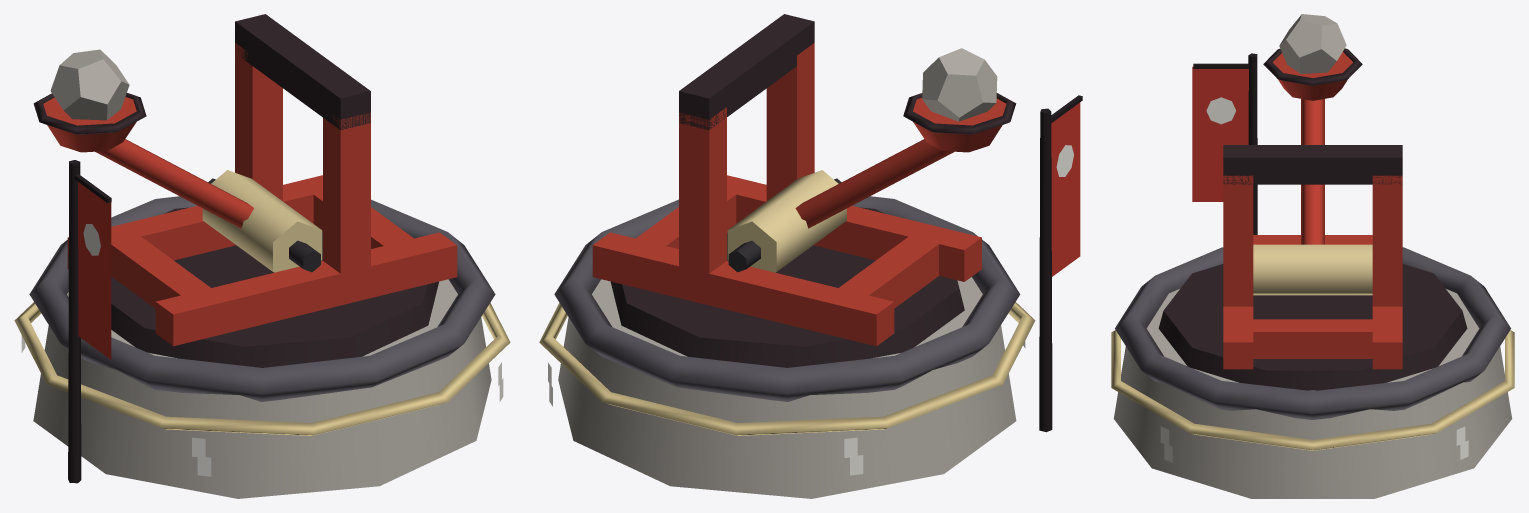
Rendered from tower_catapult.glb.
3 renders of one model, left to right at view 1: azimuth 30°, elevation 25°; view 2: azimuth 150°, elevation 25°; view 3: azimuth 270°, elevation 25°, orthographic. The views are drawn at different scales.
Visible parts, largest first — view 1: base, base_rim, turntable, rail_l, deco_shimenawa_rope, stop_bar, upright_l, torsion_rope, upright_r, cross_w, deco_nobori_cloth, rail_r (+8 smaller); view 2: base, base_rim, turntable, rail_r, deco_shimenawa_rope, upright_r, stop_bar, rail_l, upright_l, torsion_rope, cross_w, deco_nobori_cloth (+7 smaller); view 3: base, turntable, base_rim, stop_bar, torsion_rope, deco_shimenawa_rope, deco_nobori_cloth, cross_e, upright_r, upright_l, stone_0, arm_beam (+7 smaller).
Part boxes in pixels (<box>): base: <box>33,279,491,498</box>; base_rim: <box>29,196,495,401</box>; turntable: <box>111,207,438,367</box>; rail_l: <box>155,232,457,346</box>; deco_shimenawa_rope: <box>14,302,510,435</box>; stop_bar: <box>235,14,370,129</box>; upright_l: <box>323,112,370,275</box>; torsion_rope: <box>202,170,322,272</box>; upright_r: <box>235,43,282,201</box>; cross_w: <box>111,224,228,339</box>; deco_nobori_cloth: <box>78,182,111,359</box>; rail_r: <box>67,182,321,269</box>; base: <box>558,277,1016,498</box>; base_rim: <box>554,196,1020,401</box>; turntable: <box>610,207,964,367</box>; rail_r: <box>592,232,894,346</box>; deco_shimenawa_rope: <box>539,302,1035,435</box>; upright_r: <box>679,107,726,273</box>; stop_bar: <box>679,14,814,130</box>; rail_l: <box>727,176,981,281</box>; upright_l: <box>766,43,814,201</box>; torsion_rope: <box>727,170,846,272</box>; cross_w: <box>821,224,956,339</box>; deco_nobori_cloth: <box>1051,102,1080,276</box>; base: <box>1113,289,1512,498</box>; turntable: <box>1158,264,1467,390</box>; base_rim: <box>1115,247,1510,419</box>; stop_bar: <box>1223,145,1402,184</box>; torsion_rope: <box>1253,244,1372,295</box>; deco_shimenawa_rope: <box>1111,330,1514,450</box>; deco_nobori_cloth: <box>1192,66,1248,201</box>; cross_e: <box>1253,319,1372,358</box>; upright_r: <box>1372,175,1402,306</box>; upright_l: <box>1223,175,1253,306</box>; stone_0: <box>1279,14,1346,73</box>; arm_beam: <box>1301,99,1324,244</box>.
Size of the model in its own units: 0.4387 by 0.3651 by 0.4052.
